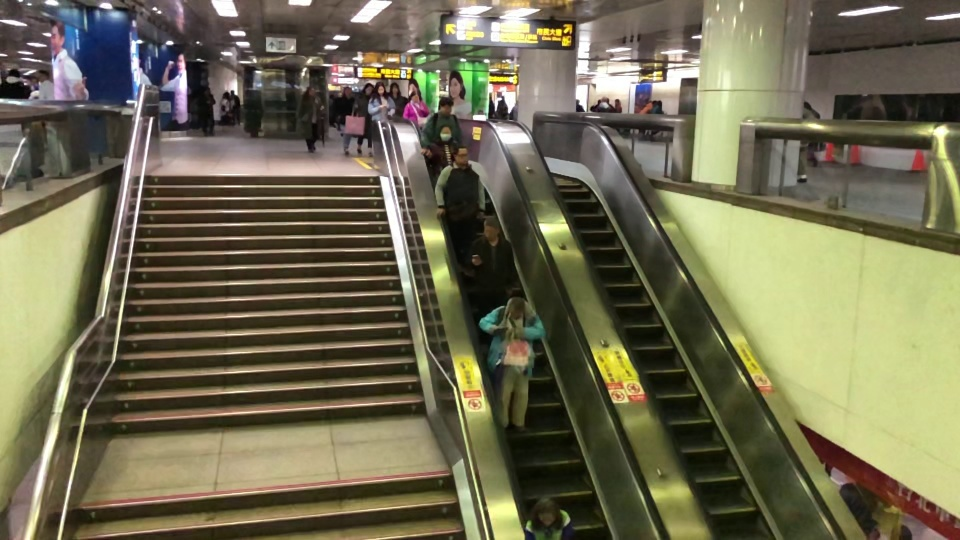person_head: (532, 496, 558, 528), (481, 213, 501, 243), (507, 294, 527, 319), (452, 145, 470, 166), (436, 95, 454, 115), (438, 124, 454, 141), (373, 81, 387, 97), (388, 80, 401, 97), (36, 68, 51, 82), (407, 89, 422, 103), (361, 81, 374, 95), (7, 68, 21, 79), (342, 85, 353, 97), (306, 86, 316, 97), (202, 86, 211, 95), (599, 95, 608, 103)
person_vbox: (478, 296, 547, 425), (464, 214, 517, 343), (435, 147, 486, 276), (522, 494, 579, 539), (421, 126, 460, 191), (419, 96, 463, 152), (297, 86, 324, 153), (334, 84, 357, 156), (356, 82, 376, 157), (367, 81, 396, 124), (401, 89, 430, 127), (0, 69, 32, 100), (198, 86, 217, 136), (388, 81, 409, 117), (34, 68, 56, 101), (595, 97, 615, 113)
